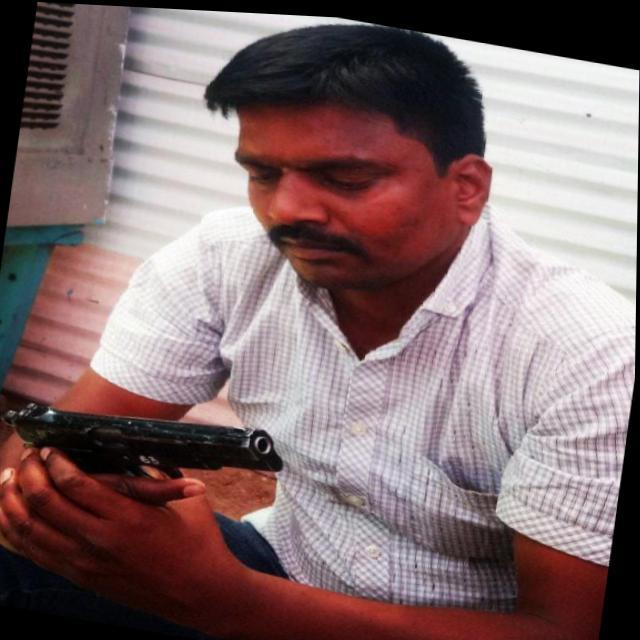weapon: (0, 377, 305, 607)
